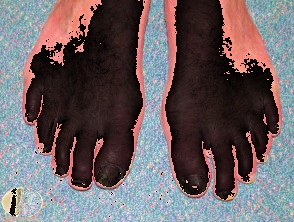Nail_psoriasis: (92, 159, 129, 192), (177, 174, 210, 197), (216, 185, 235, 204), (70, 175, 91, 191), (22, 109, 38, 126), (55, 165, 69, 179), (241, 174, 251, 183), (41, 144, 48, 154)
